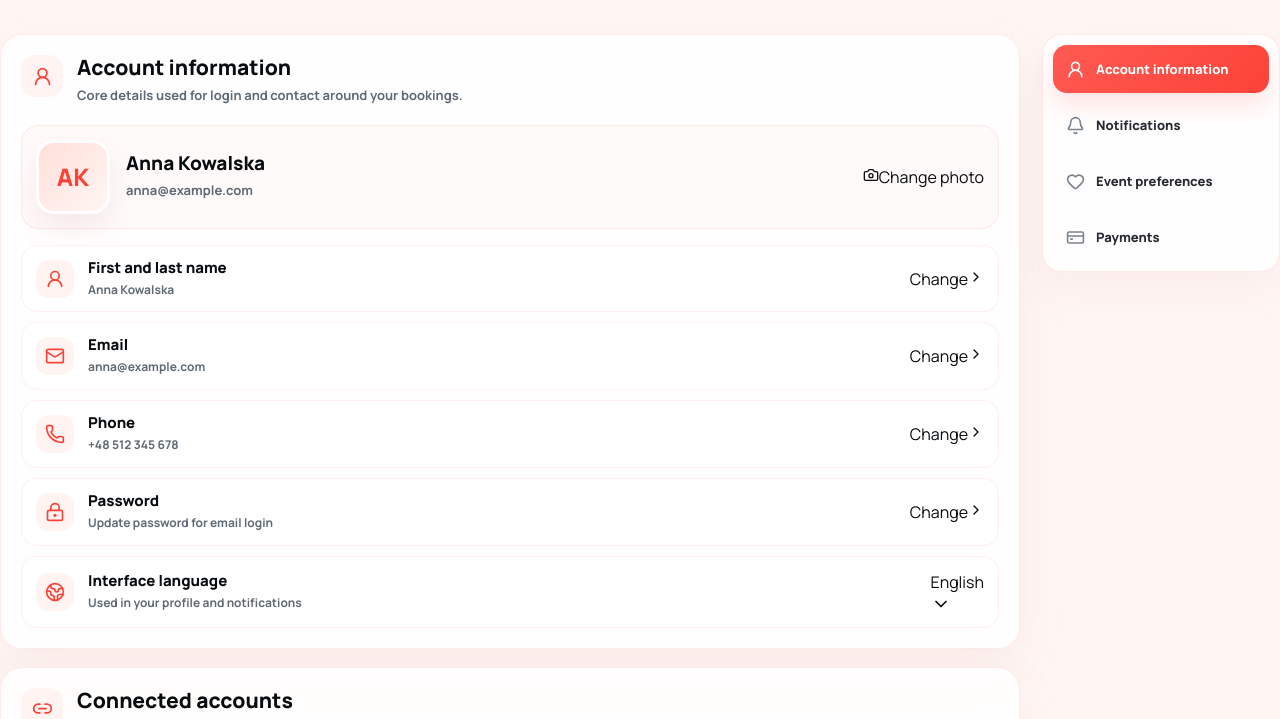
Test: ProfileSettingsView › combines marketing notification options into one new events switch
Click the button "Notifications" at coordinates (1161, 125), box x1=1053 y1=101 x2=1269 y2=149
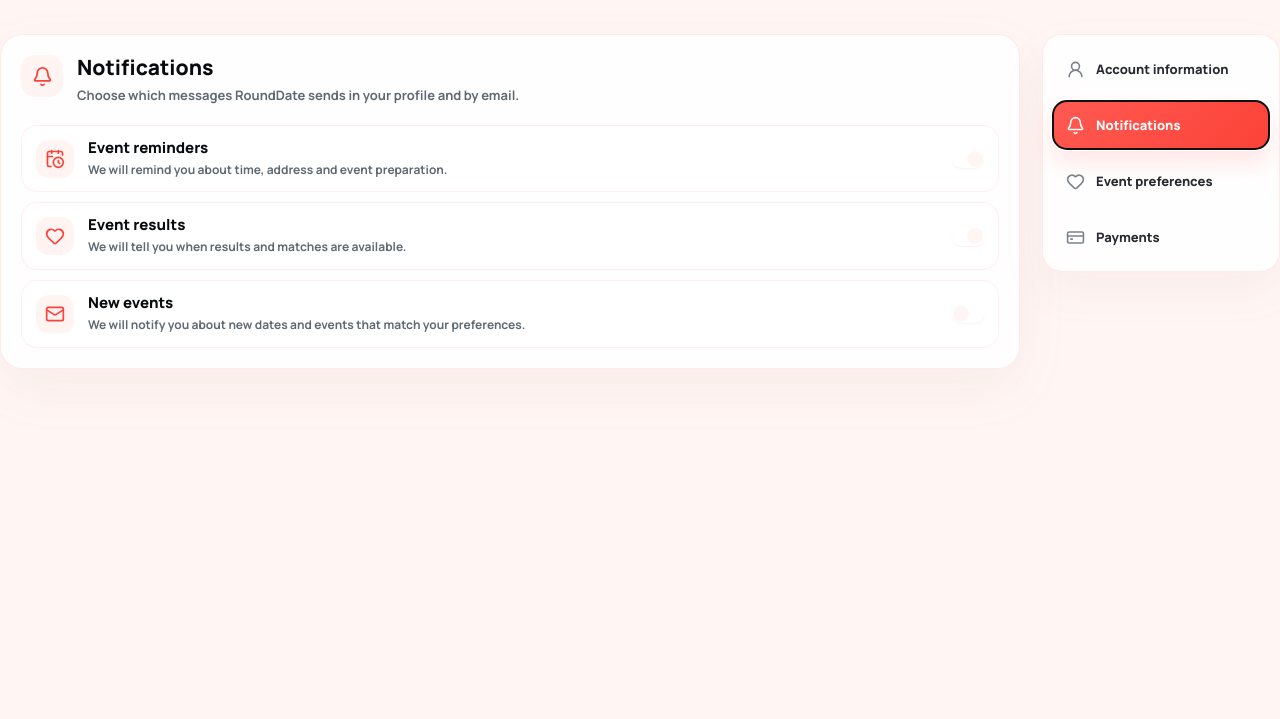
Check: the heading "Event reminders" is shown, box x1=88 y1=137 x2=208 y2=158
Check: the heading "Event results" is shown, box x1=88 y1=214 x2=185 y2=235
Check: the heading "New events" is shown, box x1=88 y1=292 x2=173 y2=313
